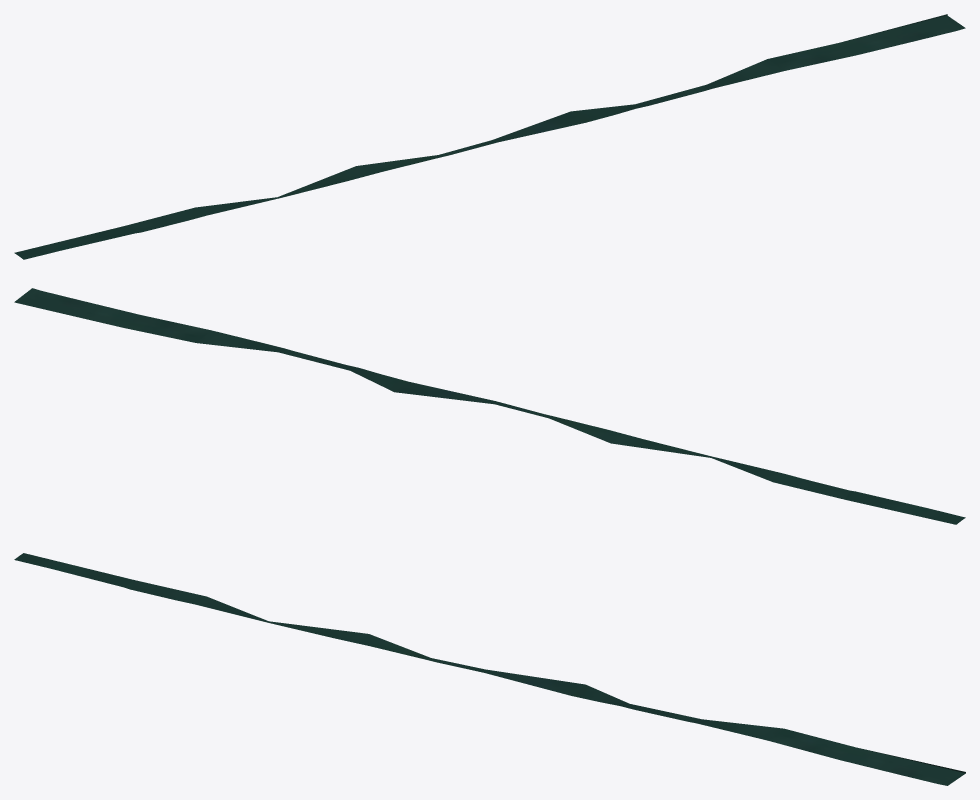
3 renders of one model, top to bottom at view 1: azimuth 30°, elevation 25°; view 2: azimuth 150°, elevation 25°; view 3: azimuth 330°, elevation 25°, orthographic.
Bounding box in the file's own units: 52.22 × 0.2381 × 1.78.
Materials: 1 (1 with a texture image).
